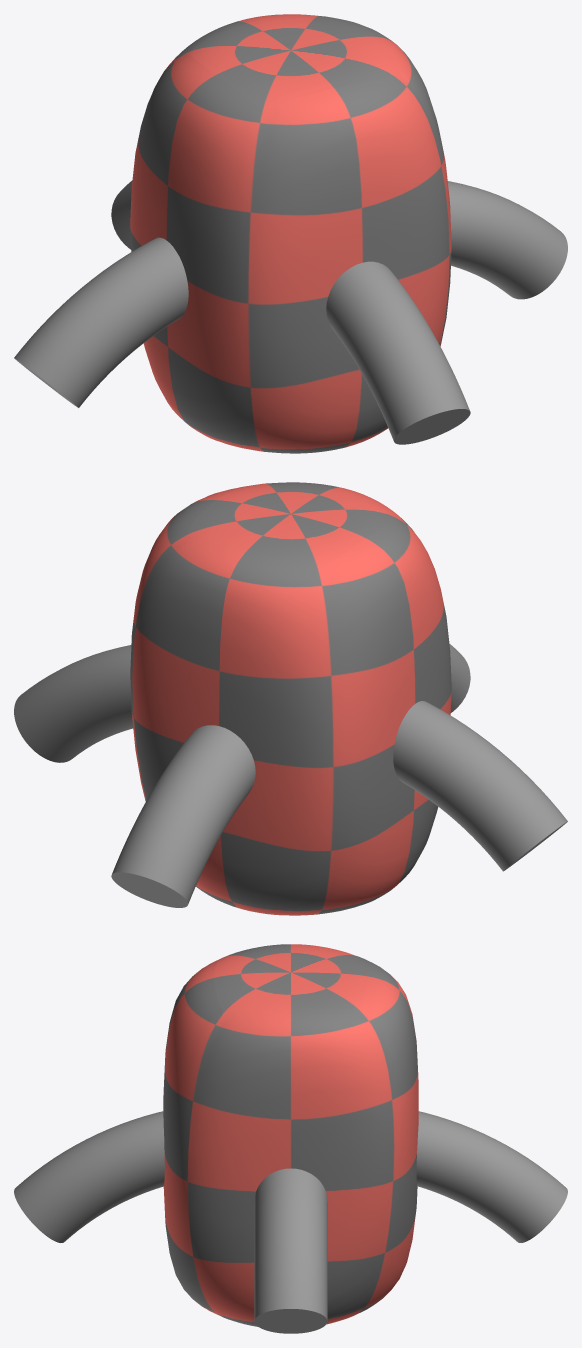
Rendered from Body(Oblong)+Colour(More_Red)+Pattern(Checkered)+Arm_Angle(Bent_Down).fbx.
The picture shows the model from 3 angles, top to bottom: view 1: azimuth 30°, elevation 25°; view 2: azimuth 150°, elevation 25°; view 3: azimuth 270°, elevation 25°; orthographic projection. The views are drawn at different scales.
Parts seen in each view (by area): view 1: Body(Oblong)+Colour(More_Red)+Pattern(Checkered)+Arm_Angle(B (×5); view 2: Body(Oblong)+Colour(More_Red)+Pattern(Checkered)+Arm_Angle(B (×5); view 3: Body(Oblong)+Colour(More_Red)+Pattern(Checkered)+Arm_Angle(B (×4).
Boxes of the visible parts, x1,y1,x2,y2 form: Body(Oblong)+Colour(More_Red)+Pattern(Checkered)+Arm_Angle(B (×5): (14,14,567,453); Body(Oblong)+Colour(More_Red)+Pattern(Checkered)+Arm_Angle(B (×5): (14,482,567,915); Body(Oblong)+Colour(More_Red)+Pattern(Checkered)+Arm_Angle(B (×4): (14,944,567,1333).
Bounding box in the file's own units: 60.67 × 40 × 60.67.
Materials: 2 (1 with a texture image).
